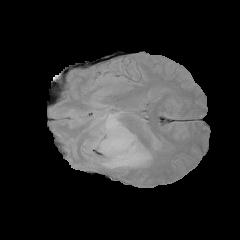glioma: (89, 112, 156, 169)
